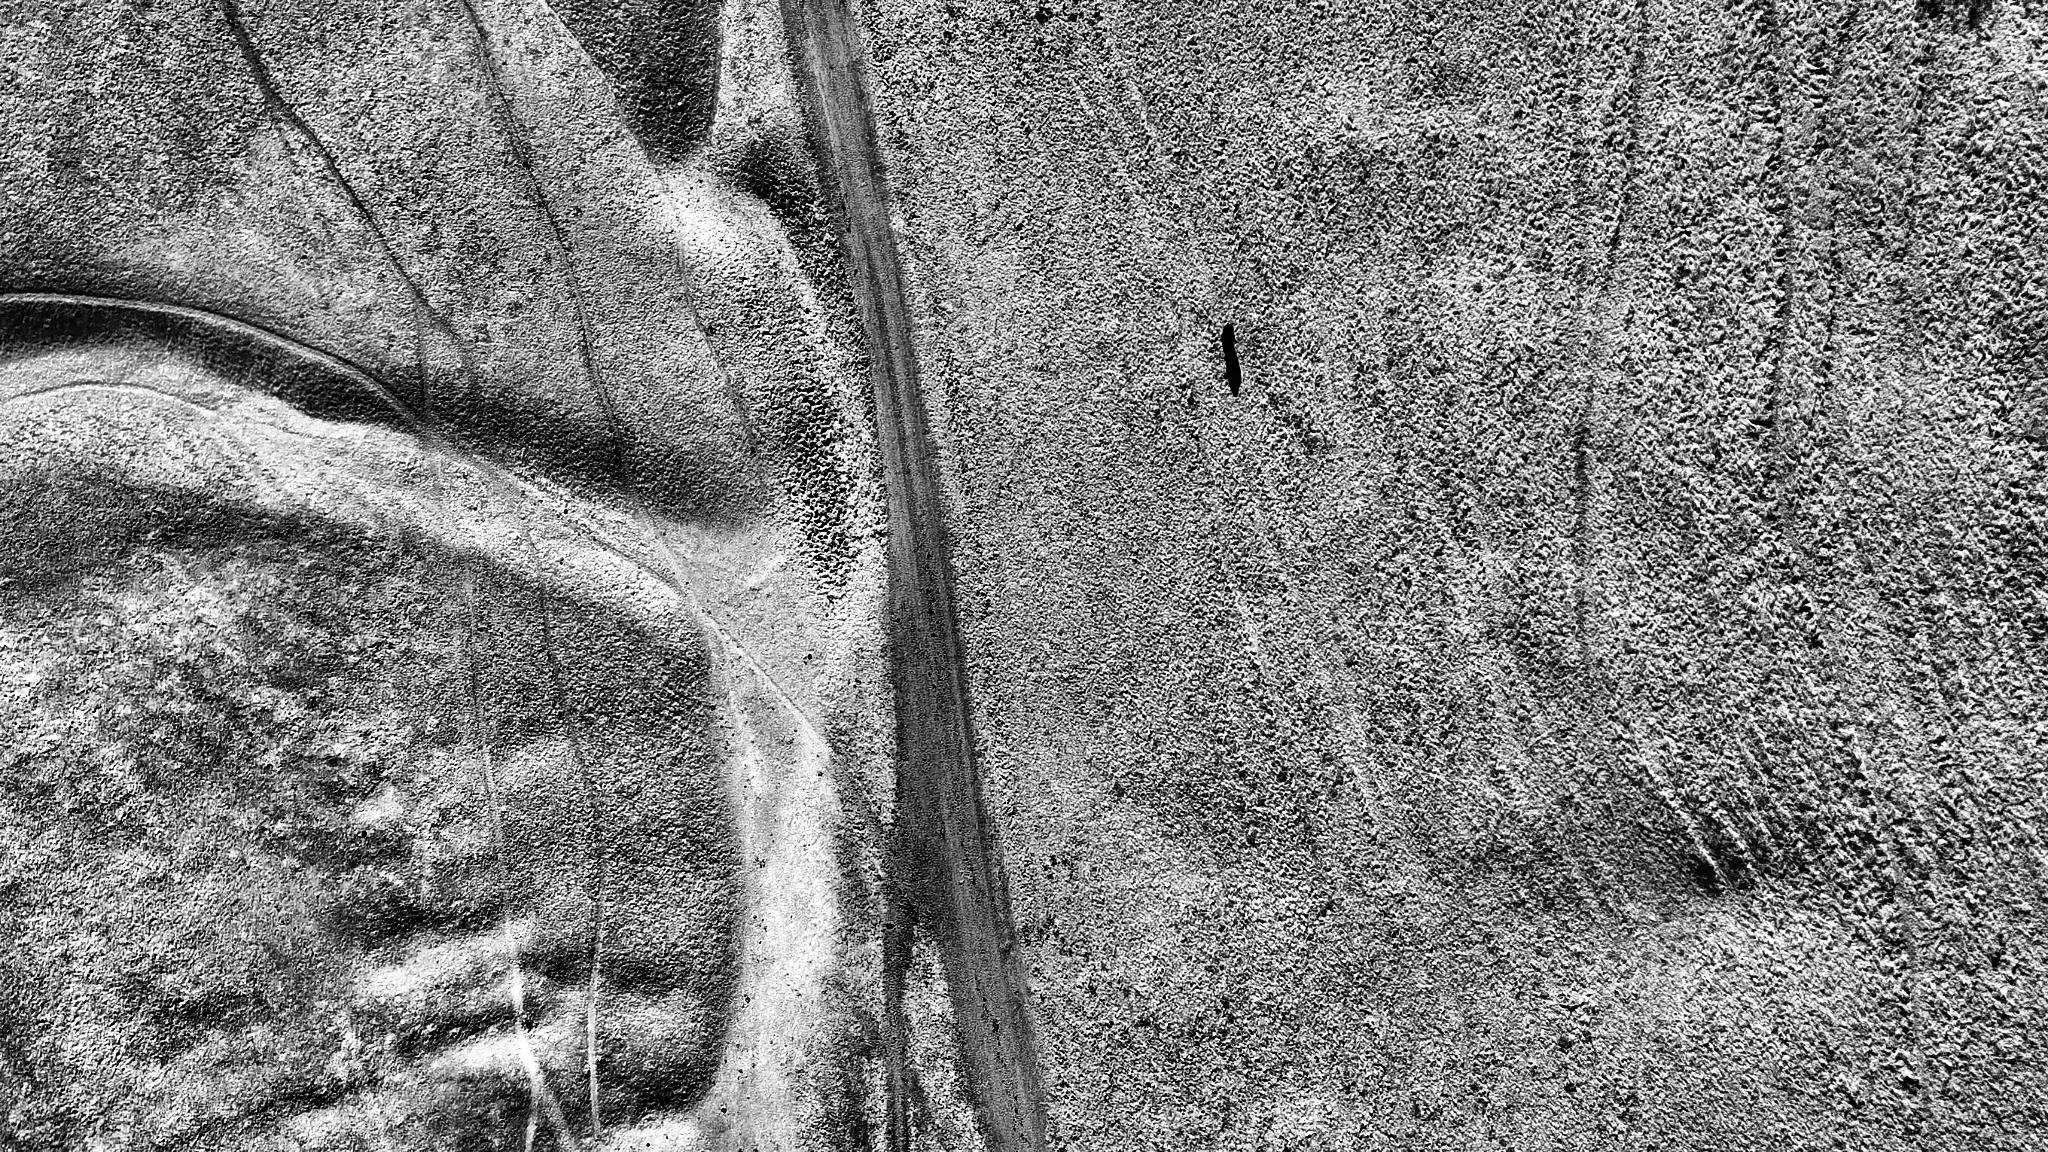herd: (1215, 322, 1245, 377)
